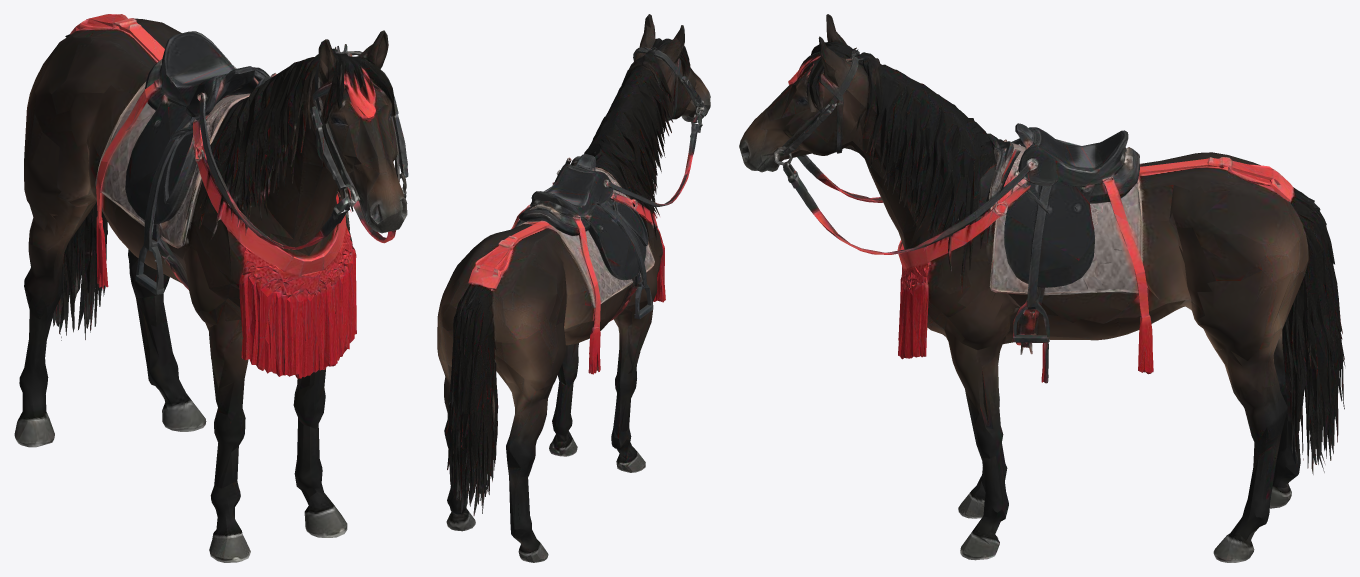
The model's file is cheval.glb.
3 views of the same model, side by side, from view 1: azimuth 30°, elevation 25°; view 2: azimuth 150°, elevation 25°; view 3: azimuth 270°, elevation 25° (orthographic). The views are drawn at different scales.
Visible parts, largest first — view 1: Mesh_0; view 2: Mesh_0; view 3: Mesh_0.
Boxes of the visible parts, bbox=[...] form: Mesh_0: bbox=[14, 14, 408, 562]; Mesh_0: bbox=[437, 14, 710, 562]; Mesh_0: bbox=[739, 14, 1345, 562].
Size of the model in its own units: 0.5901 by 1.75 by 1.9.
1 material, 1 textured.
